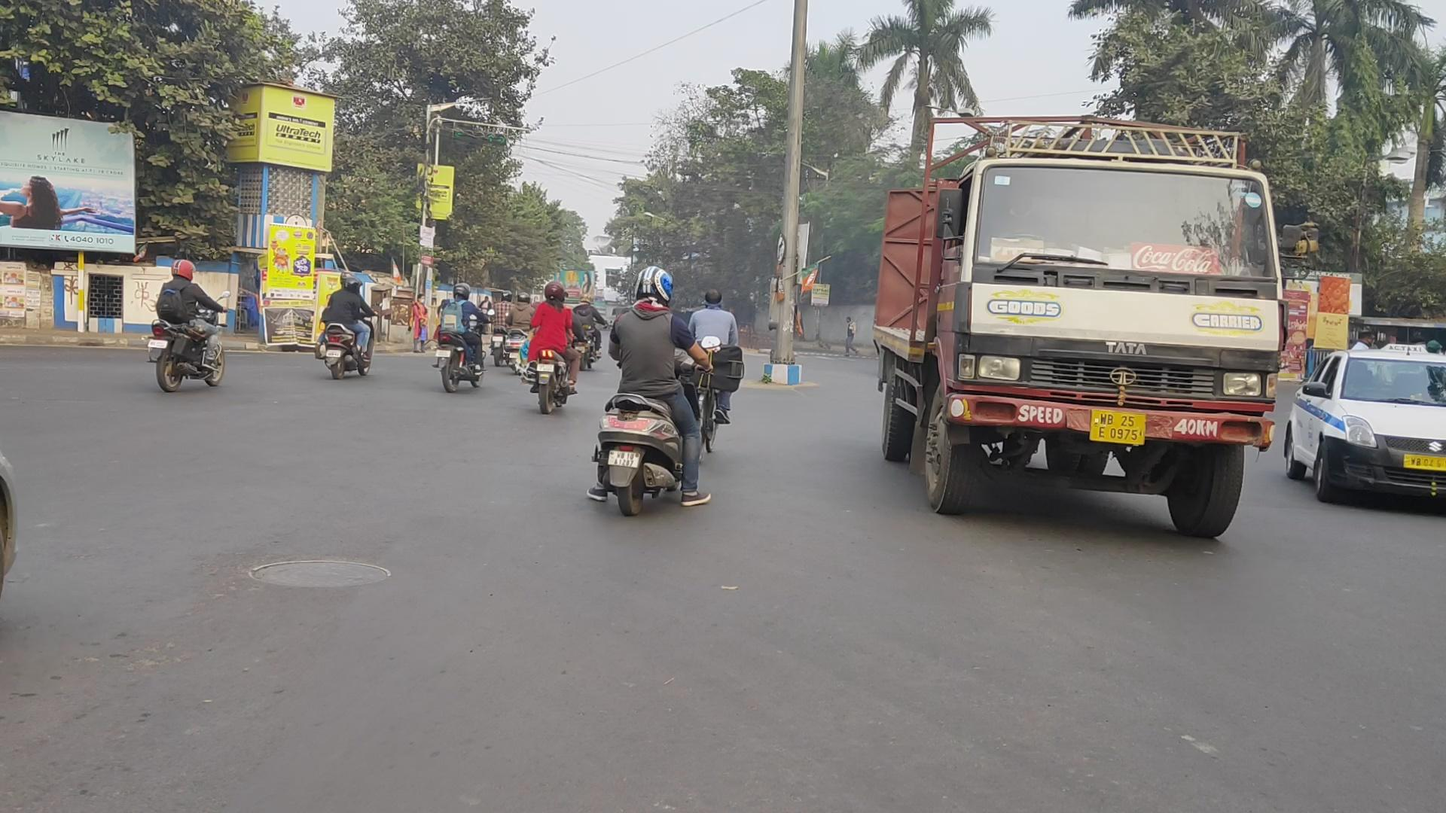bike: (587, 266, 721, 516), (148, 258, 230, 392), (686, 288, 744, 452), (519, 280, 581, 414), (316, 270, 380, 379), (434, 282, 495, 393), (504, 291, 538, 376), (572, 297, 609, 370), (487, 289, 513, 365)
car: (1283, 341, 1446, 512)
truck: (874, 114, 1289, 539)
